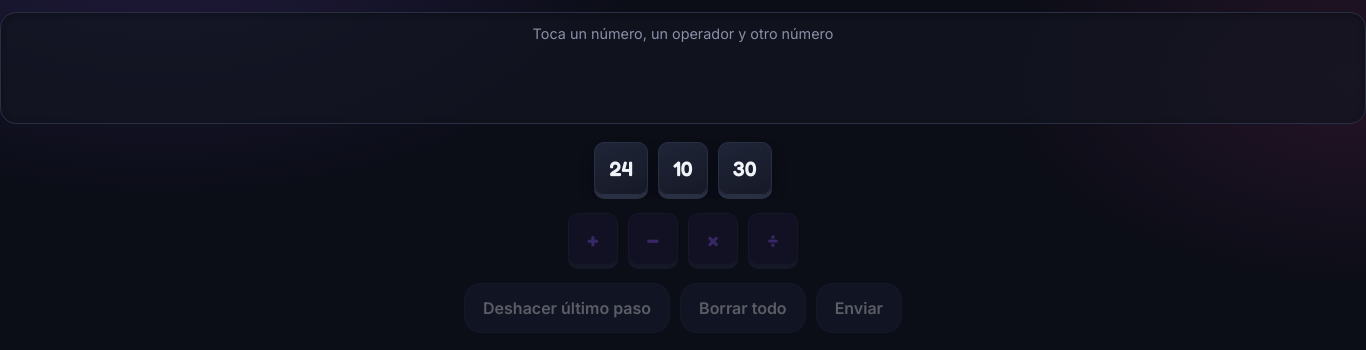
Test: NumberBoard › encadena un segundo paso usando el resultado del primero
The image size is (1366, 350).
Click the button "24": (621, 169) left=594, top=142, right=648, bottom=195
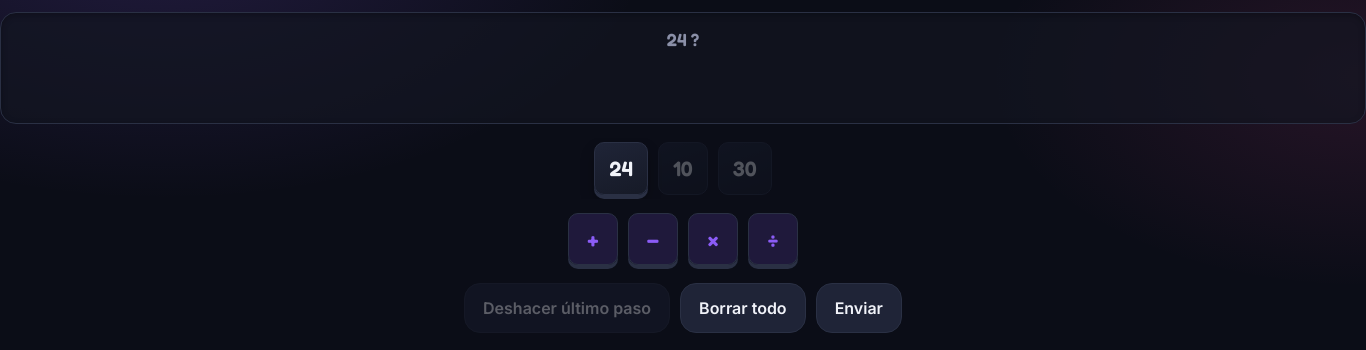
Click the button "×": (713, 239) left=688, top=213, right=738, bottom=265
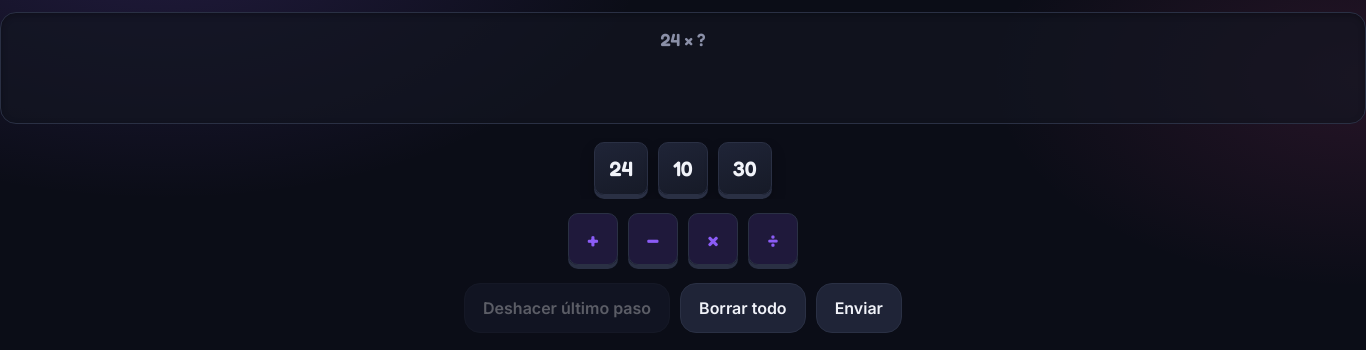
Click the button "10": (683, 169) left=658, top=142, right=708, bottom=195
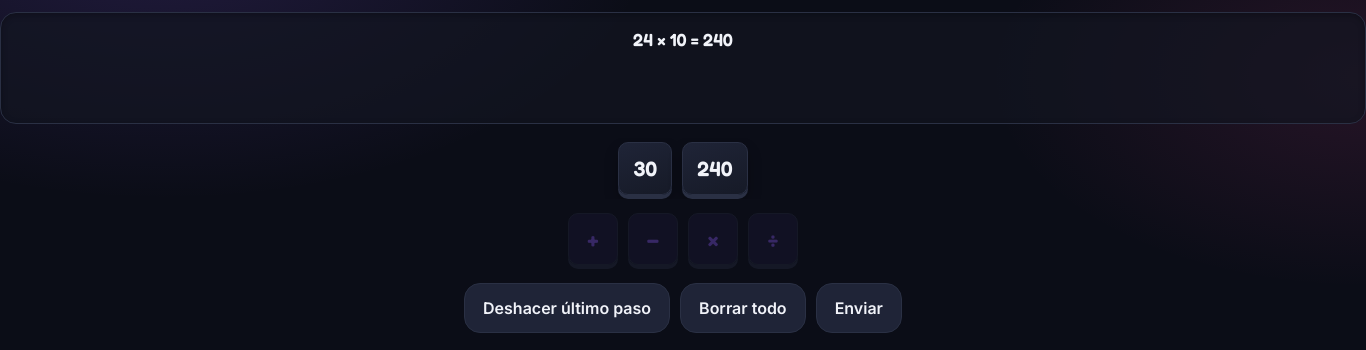
Note: el resultado (240) aparece ahora como ficha disponible
Click the button "240": (715, 169) left=682, top=142, right=748, bottom=195
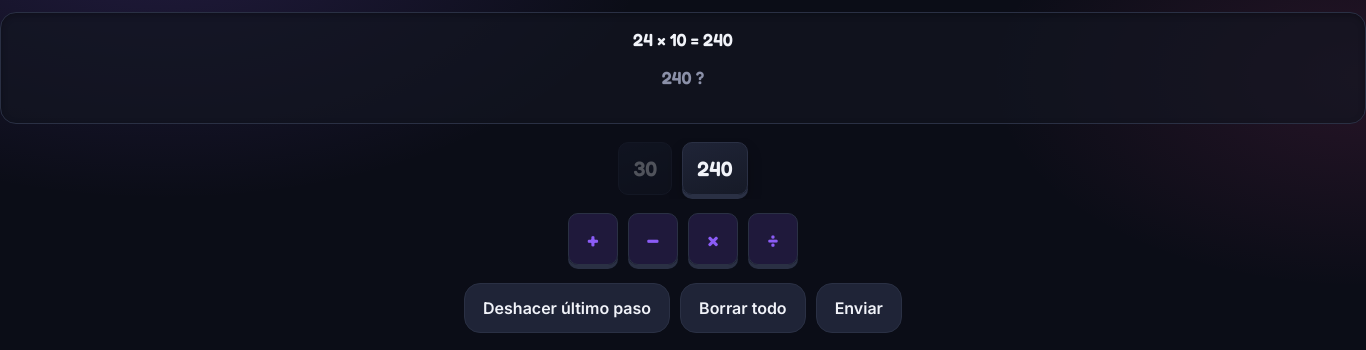
Click the button "−": (653, 239) left=628, top=213, right=678, bottom=265
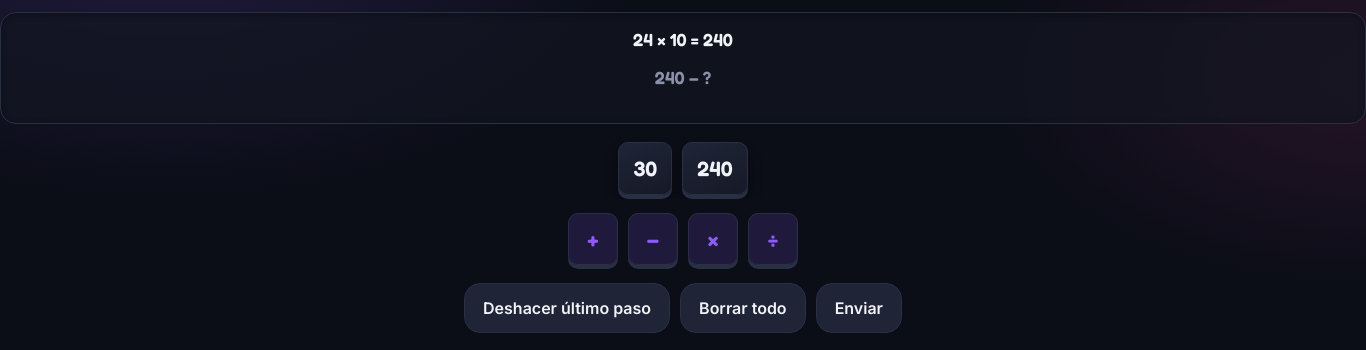
Click the button "30": (645, 169) left=618, top=142, right=672, bottom=195
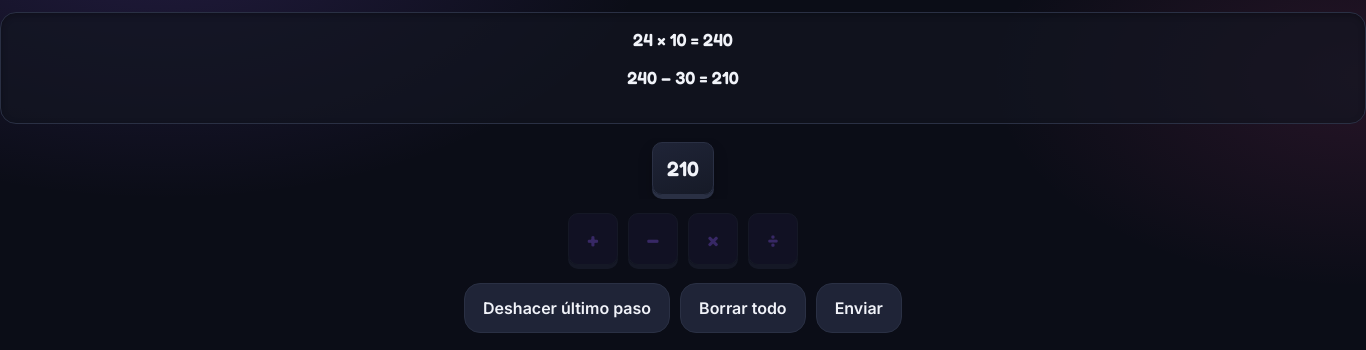
Expected: the element named "Tus operaciones" shows "24 × 10 = 240", left=0, top=12, right=1365, bottom=124
Expected: the element named "Tus operaciones" shows "240 − 30 = 210", left=0, top=12, right=1365, bottom=124
